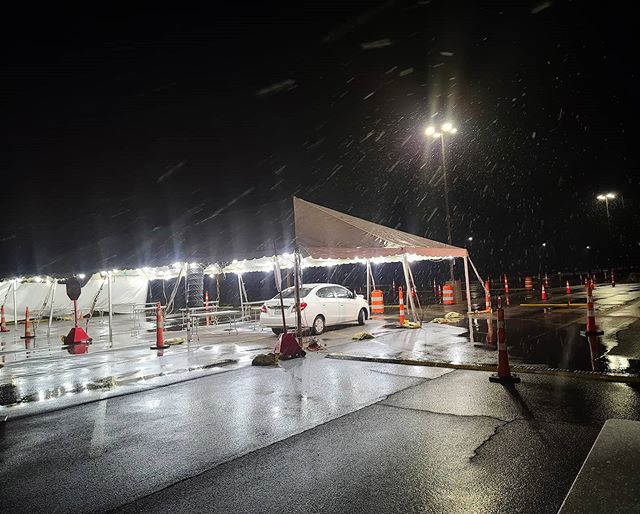car: (260, 282, 378, 333)
light pole: (418, 114, 467, 284), (592, 179, 624, 264)
sky: (1, 1, 633, 235)
street: (1, 307, 640, 514)
tent: (38, 207, 456, 369)
traffic cone: (481, 307, 525, 387), (577, 278, 603, 338), (393, 280, 416, 334), (148, 299, 171, 353), (18, 305, 38, 344)
